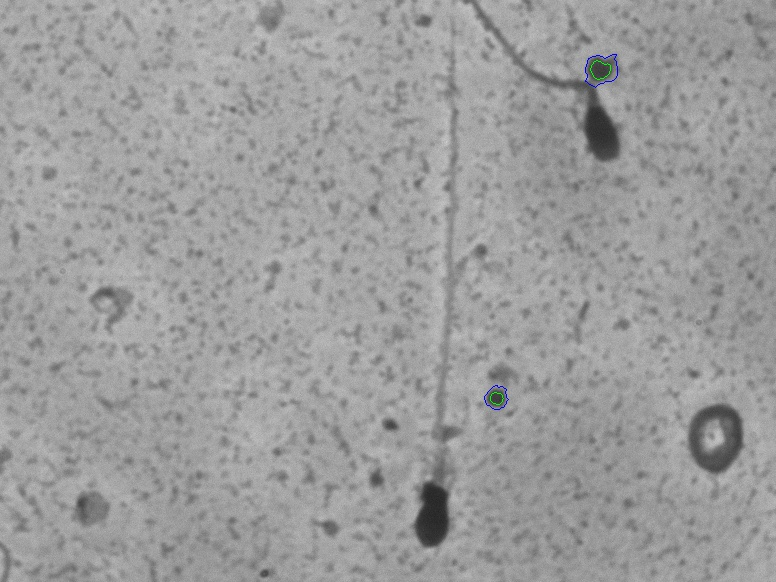Abnormal: (399, 65, 487, 557), (495, 12, 629, 191)
